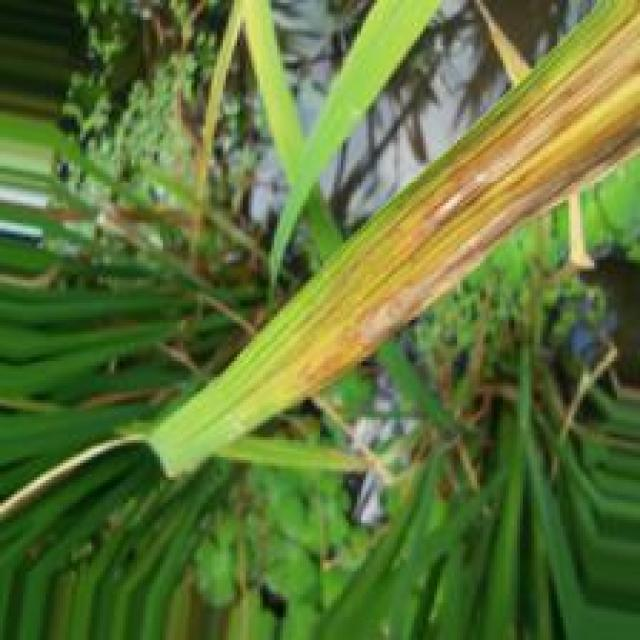Leaf_Scald: (306, 9, 640, 397)
